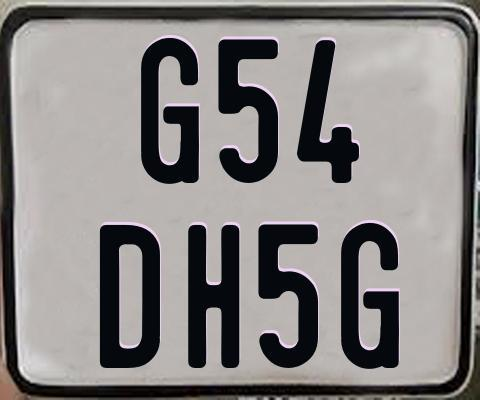4: (297, 37, 364, 185)
5: (218, 38, 284, 185), (258, 221, 319, 371)
D: (98, 224, 163, 368)
G: (339, 222, 400, 371), (141, 37, 200, 184)
H: (188, 223, 242, 372)
